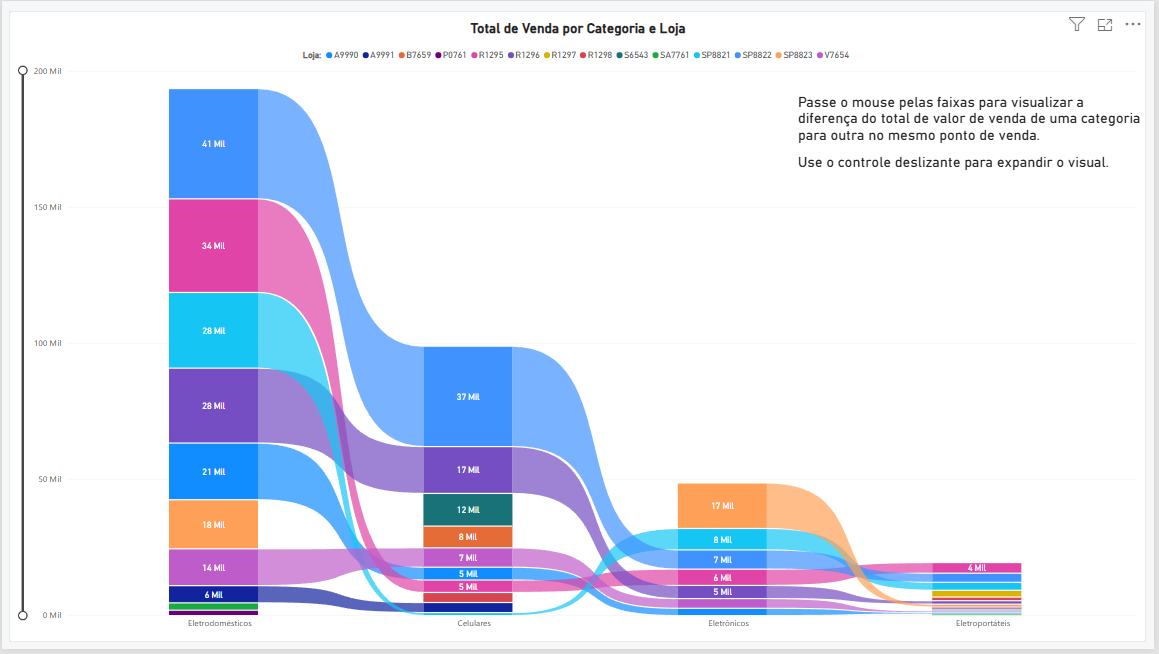

This screenshot's page, from the dashboard's own definition file:
{"tool":"powerbi","page":{"name":"Faixas de Vendas Por Categorias e Pontos de Venda","canvas":[1920,1080],"ordinal":3},"visuals":[{"type":"ribbonChart","fields":{"Category":["Vendas.Categoria"],"Series":["Vendas.Loja"],"Y":["Sum(Vendas.ValorVenda)"]},"box":[11.7,16.7,1895,1051.7],"z":0},{"type":"textbox","box":[1326.7,155,580,198.3],"z":1000}]}

Visuals, with their boxes on the page's 1920x1080 design canvas (x1, y1, x2, y2). These are canvas units, not pixel positions in the 1159x654 screenshot, which may show the page scaled, cropped or inside an application window:
ribbonChart - Vendas.Categoria x Vendas.Loja: [x1=12, y1=17, x2=1907, y2=1068]
textbox: [x1=1327, y1=155, x2=1907, y2=353]
